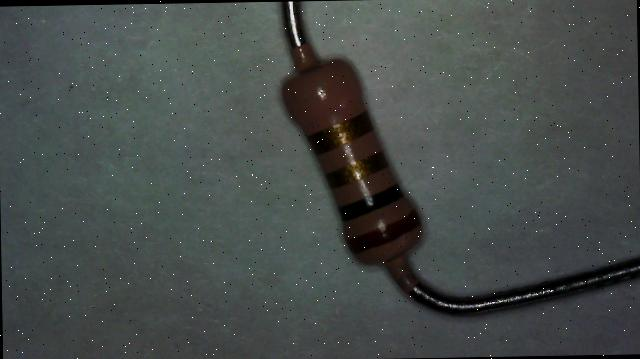black: (339, 183, 404, 220)
brown: (347, 209, 421, 253)
gold: (308, 112, 374, 154), (324, 151, 388, 188)
resistor: (245, 31, 464, 304)
